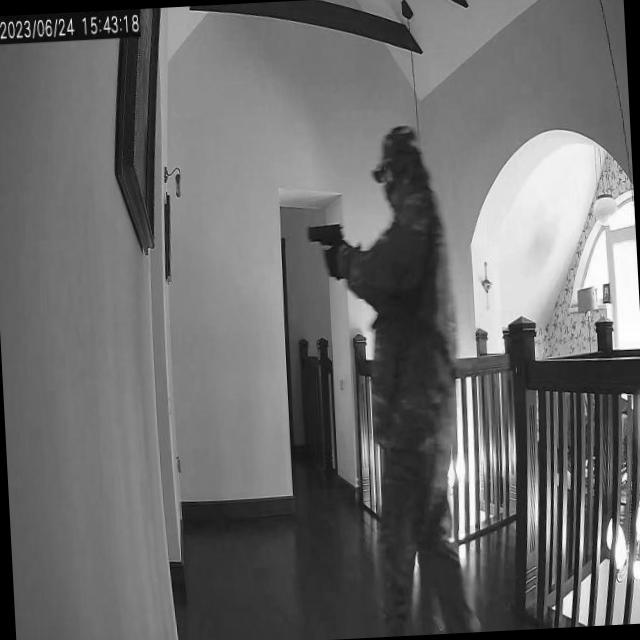gun: (306, 217, 347, 279)
person with a gun: (346, 123, 479, 635)
